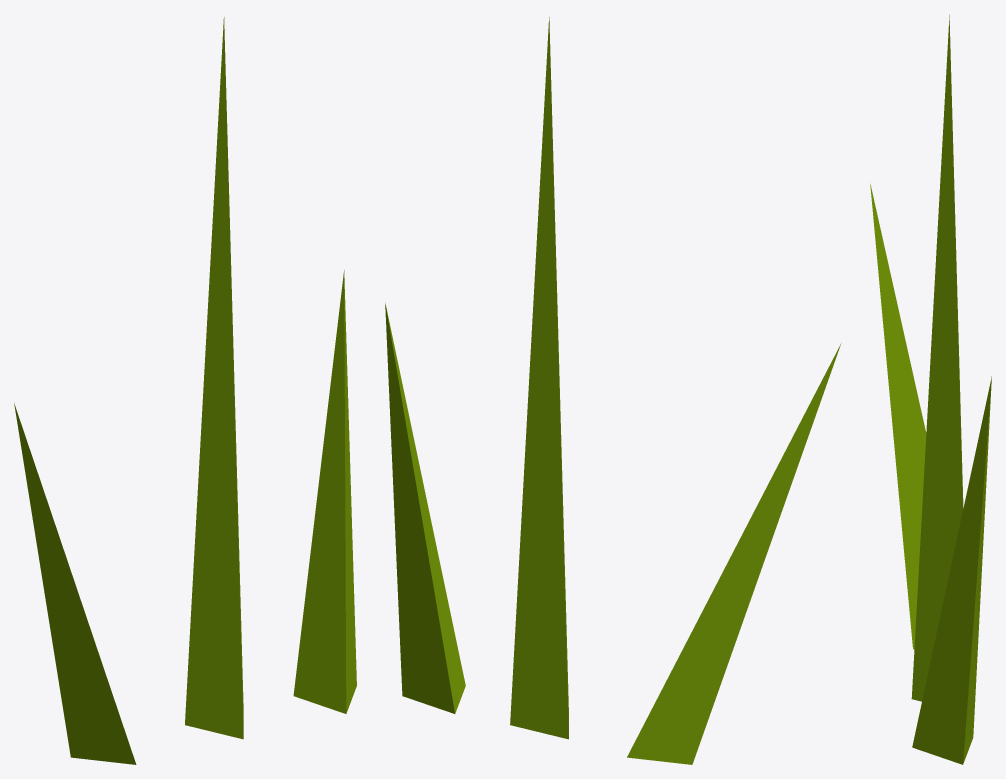
The model's file is grass-1.dae.
3 views of the same model, side by side, from view 1: azimuth 30°, elevation 25°; view 2: azimuth 150°, elevation 25°; view 3: azimuth 270°, elevation 25° (orthographic). The views are drawn at different scales.
Visible parts, largest first — view 1: Grass-1, Grass-2, Grass-3; view 2: Grass-1, Grass-3, Grass-2; view 3: Grass-1, Grass-2, Grass-3.
Part boxes in pixels (x1=…): Grass-1: x1=185, y1=17, x2=243, y2=739; Grass-2: x1=293, y1=270, x2=356, y2=713; Grass-3: x1=14, y1=403, x2=136, y2=764; Grass-1: x1=510, y1=17, x2=568, y2=739; Grass-3: x1=627, y1=343, x2=841, y2=764; Grass-2: x1=385, y1=303, x2=465, y2=713; Grass-1: x1=911, y1=14, x2=963, y2=701; Grass-2: x1=912, y1=376, x2=991, y2=764; Grass-3: x1=870, y1=182, x2=926, y2=649.
Size of the model in its own units: 0.2895 by 0.0806 by 0.5.
